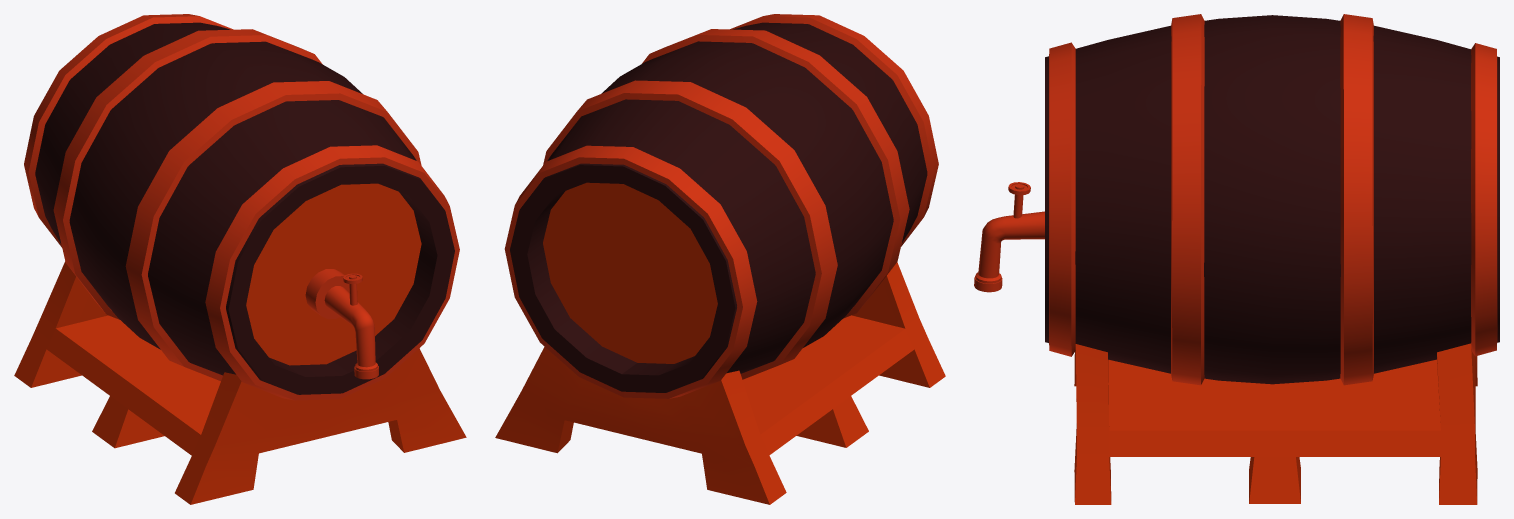
File: BigBarrel.fbx
The picture shows the model from 3 angles, left to right: view 1: azimuth 30°, elevation 25°; view 2: azimuth 150°, elevation 25°; view 3: azimuth 270°, elevation 25°; orthographic projection. The views are drawn at different scales.
Visible parts, largest first — view 1: BigBarrel; view 2: BigBarrel; view 3: BigBarrel.
Boxes of the visible parts, x1,y1,x2,y2 form: BigBarrel: (14,14,466,504); BigBarrel: (495,14,945,504); BigBarrel: (974,14,1499,504).
Bounding box in the file's own units: 210 × 236 × 283.
